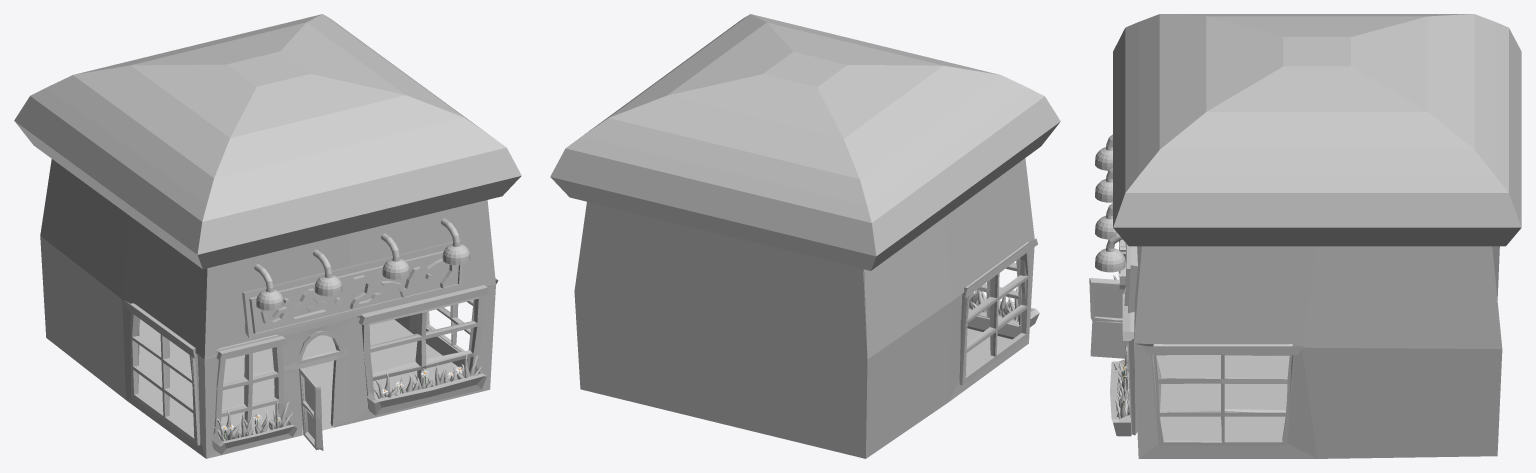
The model's file is RestaurantBuilding _ DOOROPEN.fbx.
3 views of the same model, side by side, from view 1: azimuth 30°, elevation 25°; view 2: azimuth 150°, elevation 25°; view 3: azimuth 270°, elevation 25° (orthographic). The views are drawn at different scales.
Visible parts, largest first — view 1: restaurant; view 2: restaurant; view 3: restaurant.
Boxes of the visible parts, x1=… form: restaurant: x1=14, y1=14, x2=521, y2=458; restaurant: x1=550, y1=14, x2=1060, y2=458; restaurant: x1=1089, y1=14, x2=1521, y2=458.
Size of the model in its own units: 4640 by 4053 by 4809.
